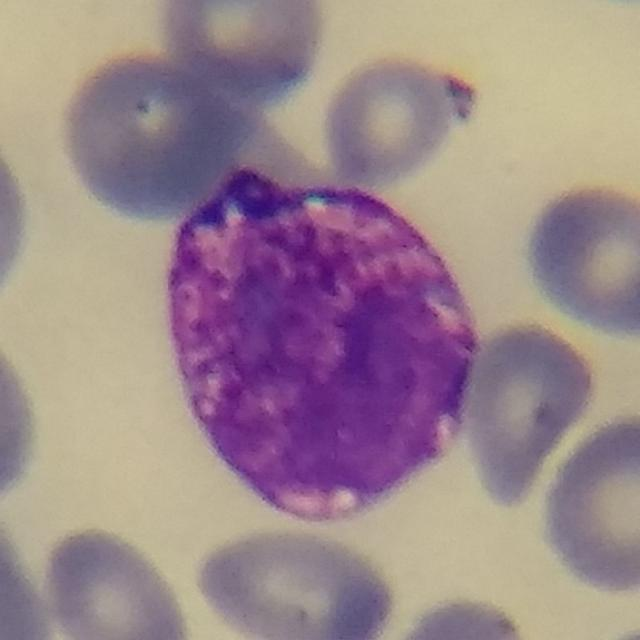Basophil: (145, 153, 498, 546)
RBC: (52, 46, 242, 226), (456, 316, 604, 511), (188, 521, 404, 640), (317, 49, 479, 191), (517, 176, 640, 342), (534, 407, 640, 598), (36, 521, 199, 640), (154, 0, 332, 105), (0, 321, 46, 514), (379, 591, 541, 640), (0, 110, 37, 324), (0, 509, 60, 639)
